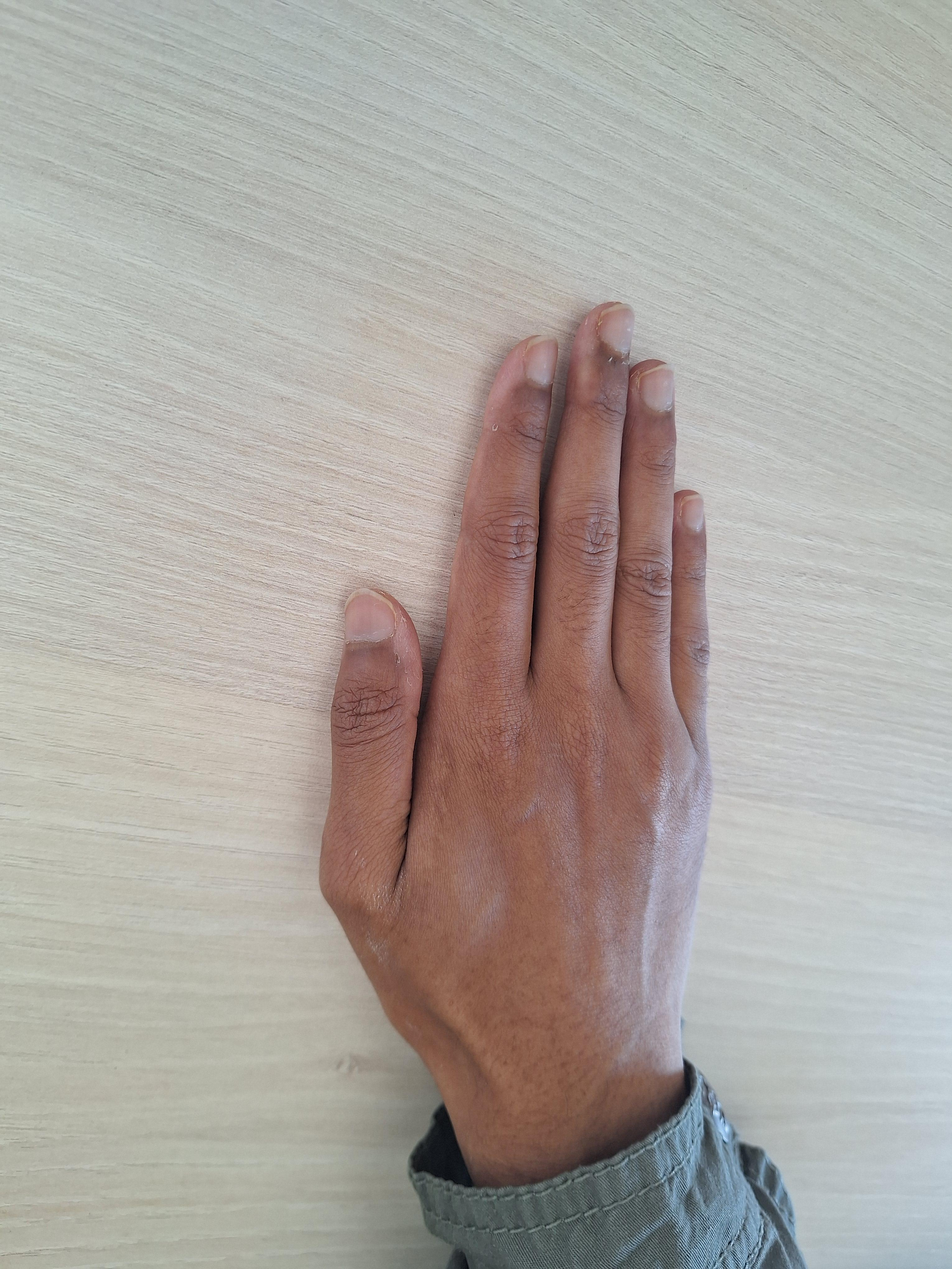Fingernail: (344, 588, 397, 642), (599, 304, 636, 353), (638, 364, 674, 412), (525, 334, 558, 385), (681, 494, 704, 530)
